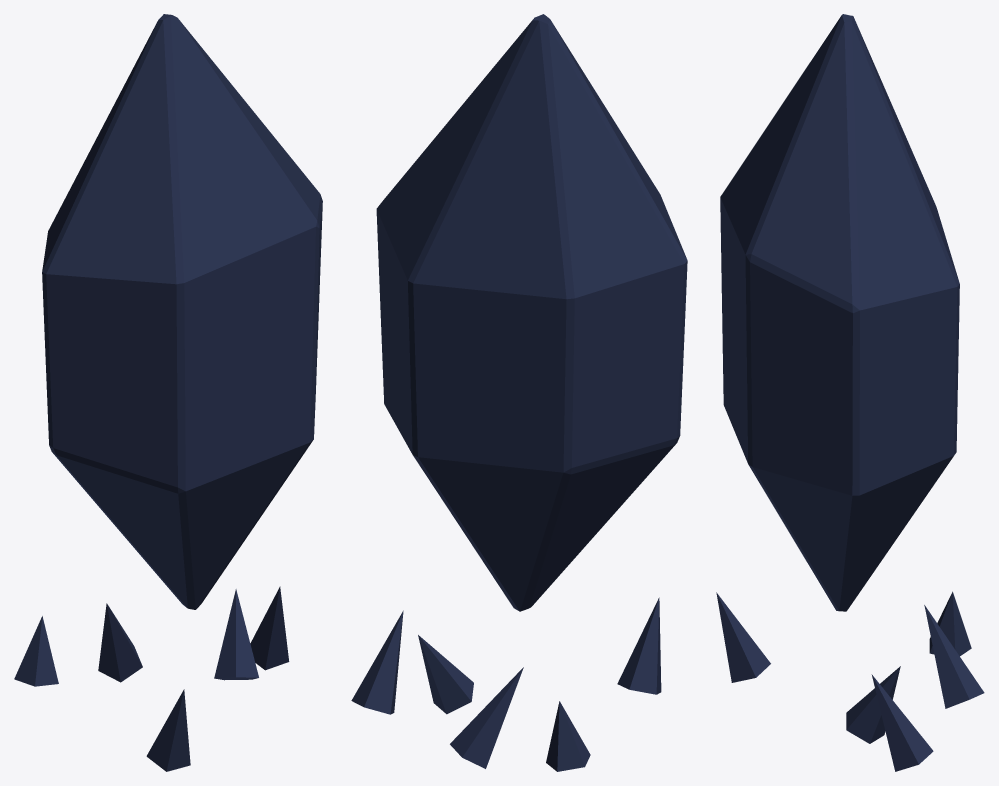
Rendered from crystal.glb.
The picture shows the model from 3 angles, left to right: view 1: azimuth 30°, elevation 25°; view 2: azimuth 150°, elevation 25°; view 3: azimuth 270°, elevation 25°; orthographic projection. The views are drawn at different scales.
Visible parts, largest first — view 1: Crystal, Shard_0, Shard_1, Shard_3, Shard_2, Shard_4; view 2: Crystal, Shard_3, Shard_2, Shard_1, Shard_0, Shard_4; view 3: Crystal, Shard_3, Shard_2, Shard_1, Shard_0, Shard_4.
Boxes of the visible parts, <box> form: Crystal: <box>42,14,322,609</box>; Shard_0: <box>214,589,258,680</box>; Shard_1: <box>146,689,190,771</box>; Shard_3: <box>98,603,142,682</box>; Shard_2: <box>250,586,289,670</box>; Shard_4: <box>14,616,58,686</box>; Crystal: <box>376,14,687,611</box>; Shard_3: <box>450,667,523,768</box>; Shard_2: <box>351,610,403,714</box>; Shard_1: <box>617,597,661,694</box>; Shard_0: <box>418,635,473,714</box>; Shard_4: <box>546,701,590,771</box>; Crystal: <box>720,14,959,611</box>; Shard_3: <box>924,605,984,708</box>; Shard_2: <box>871,674,933,771</box>; Shard_1: <box>716,592,770,682</box>; Shard_0: <box>846,666,900,743</box>; Shard_4: <box>929,591,971,656</box>.
Bounding box in the file's own units: 1.13 × 2.62 × 0.9215.
